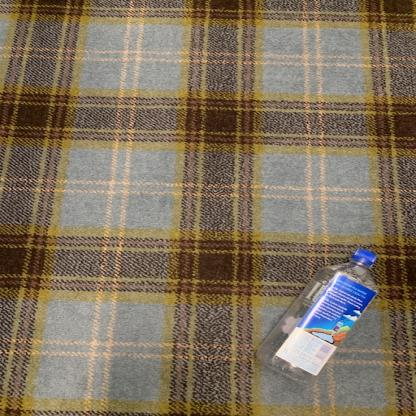trash: (254, 250, 380, 384)
